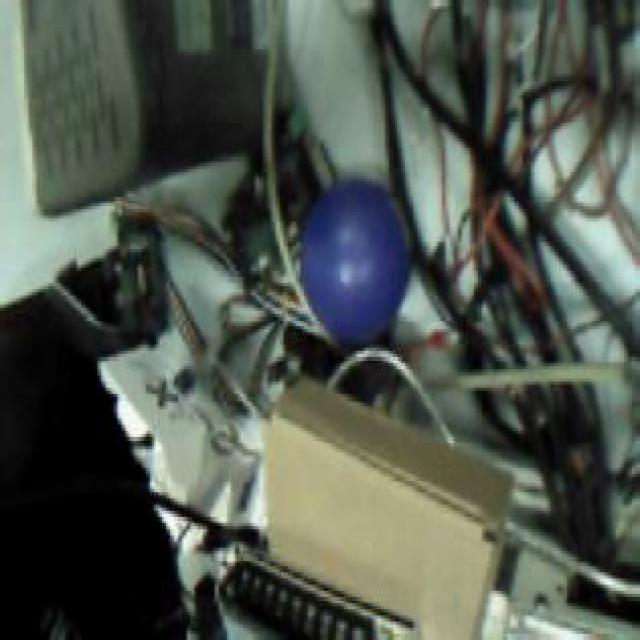BallPurple: (296, 177, 408, 342)
